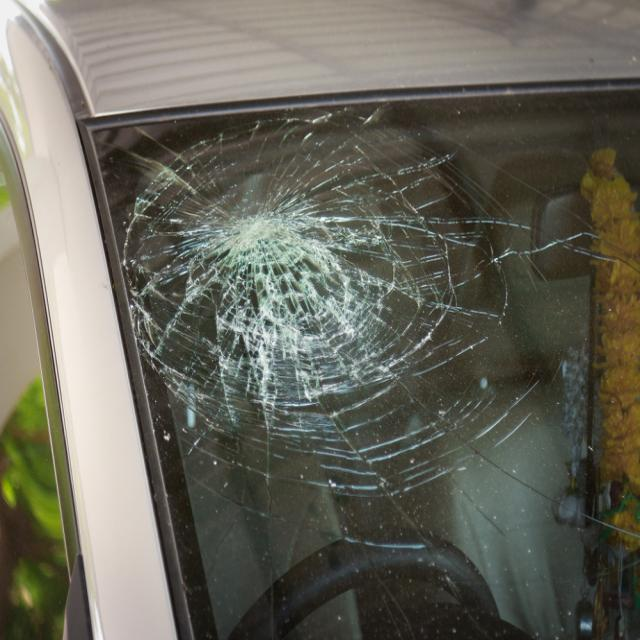Fissure: (93, 106, 640, 581)
